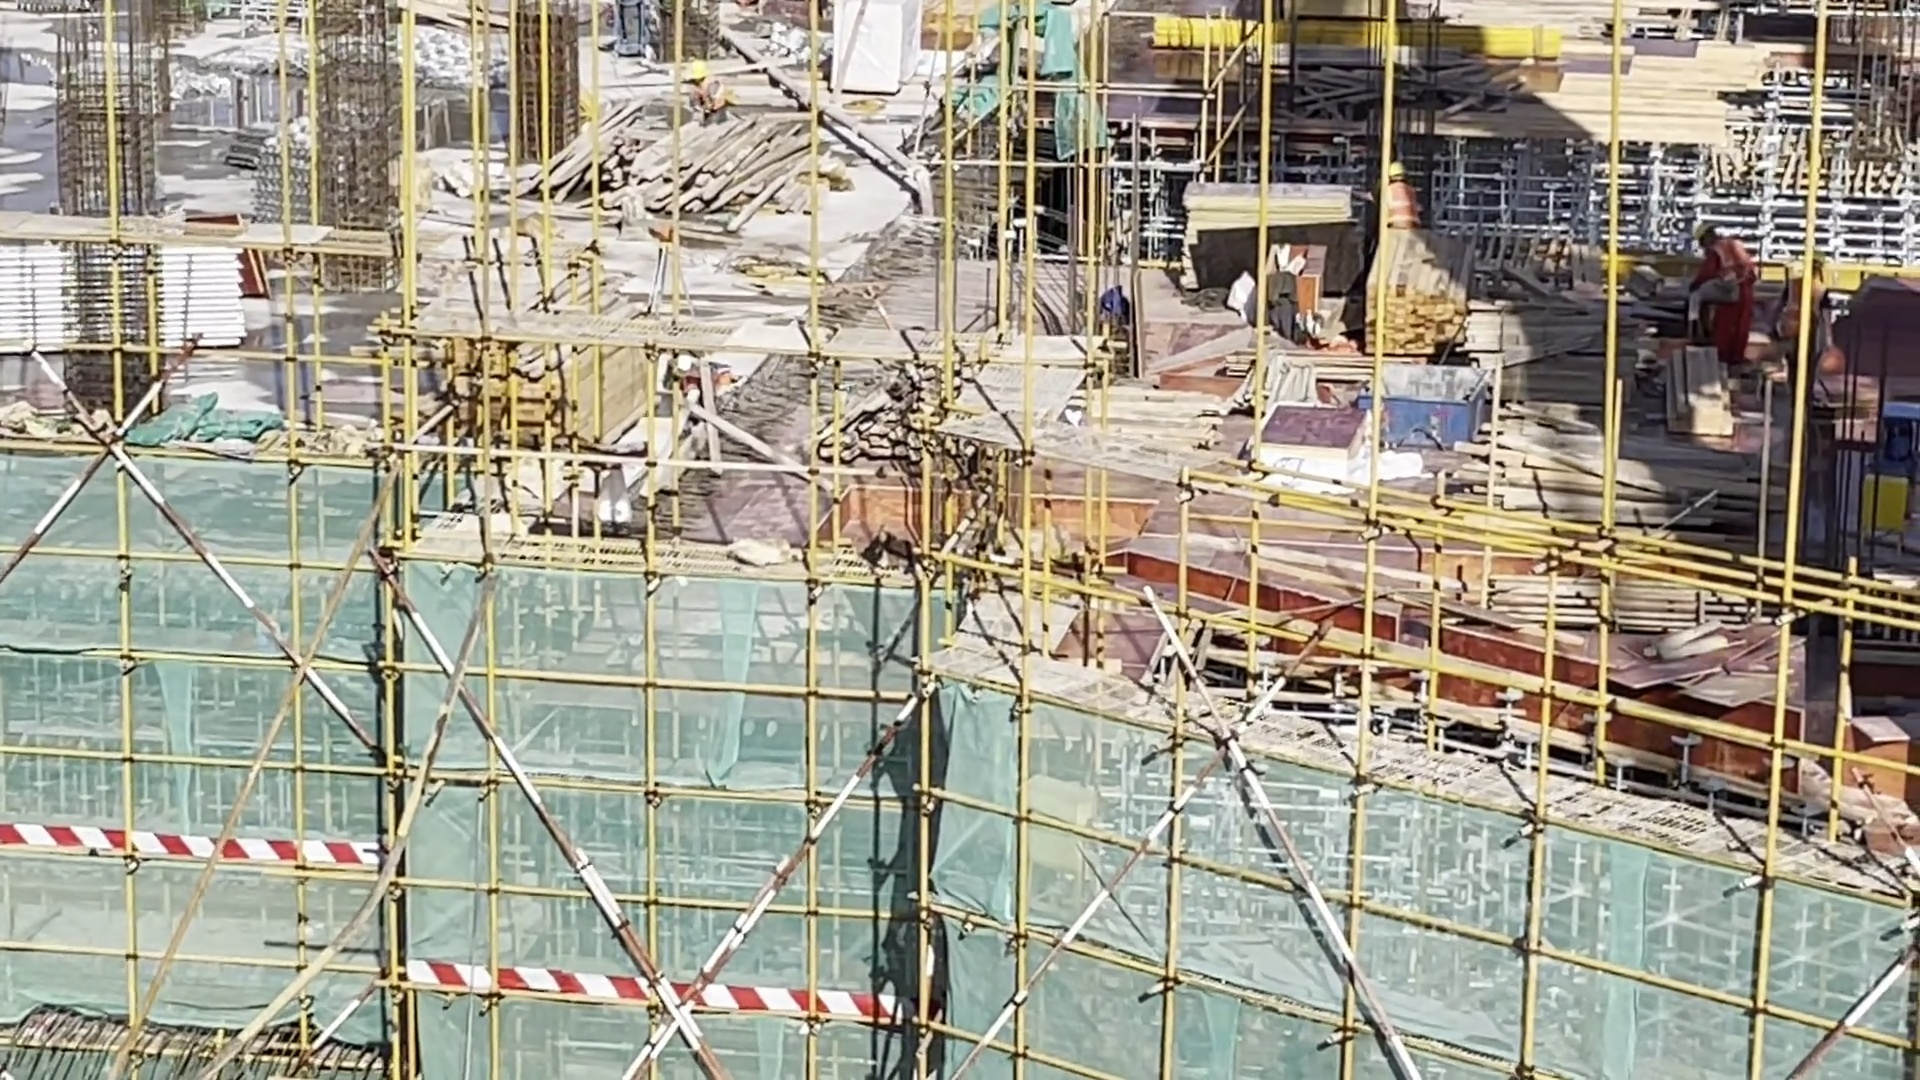board: (1619, 638, 1791, 722)
helmet: (1695, 223, 1723, 251), (1388, 165, 1414, 189), (687, 58, 706, 83), (677, 359, 694, 376)
hopper: (1367, 360, 1482, 464)
person: (1693, 223, 1753, 356), (678, 58, 733, 121), (664, 355, 728, 410), (1382, 160, 1417, 232)
scaffold: (3, 241, 263, 350), (241, 126, 303, 237)
vest: (1703, 252, 1748, 313)
wood: (1471, 392, 1788, 533), (400, 302, 610, 476), (567, 104, 788, 235), (1358, 239, 1481, 357), (1491, 579, 1707, 638)
